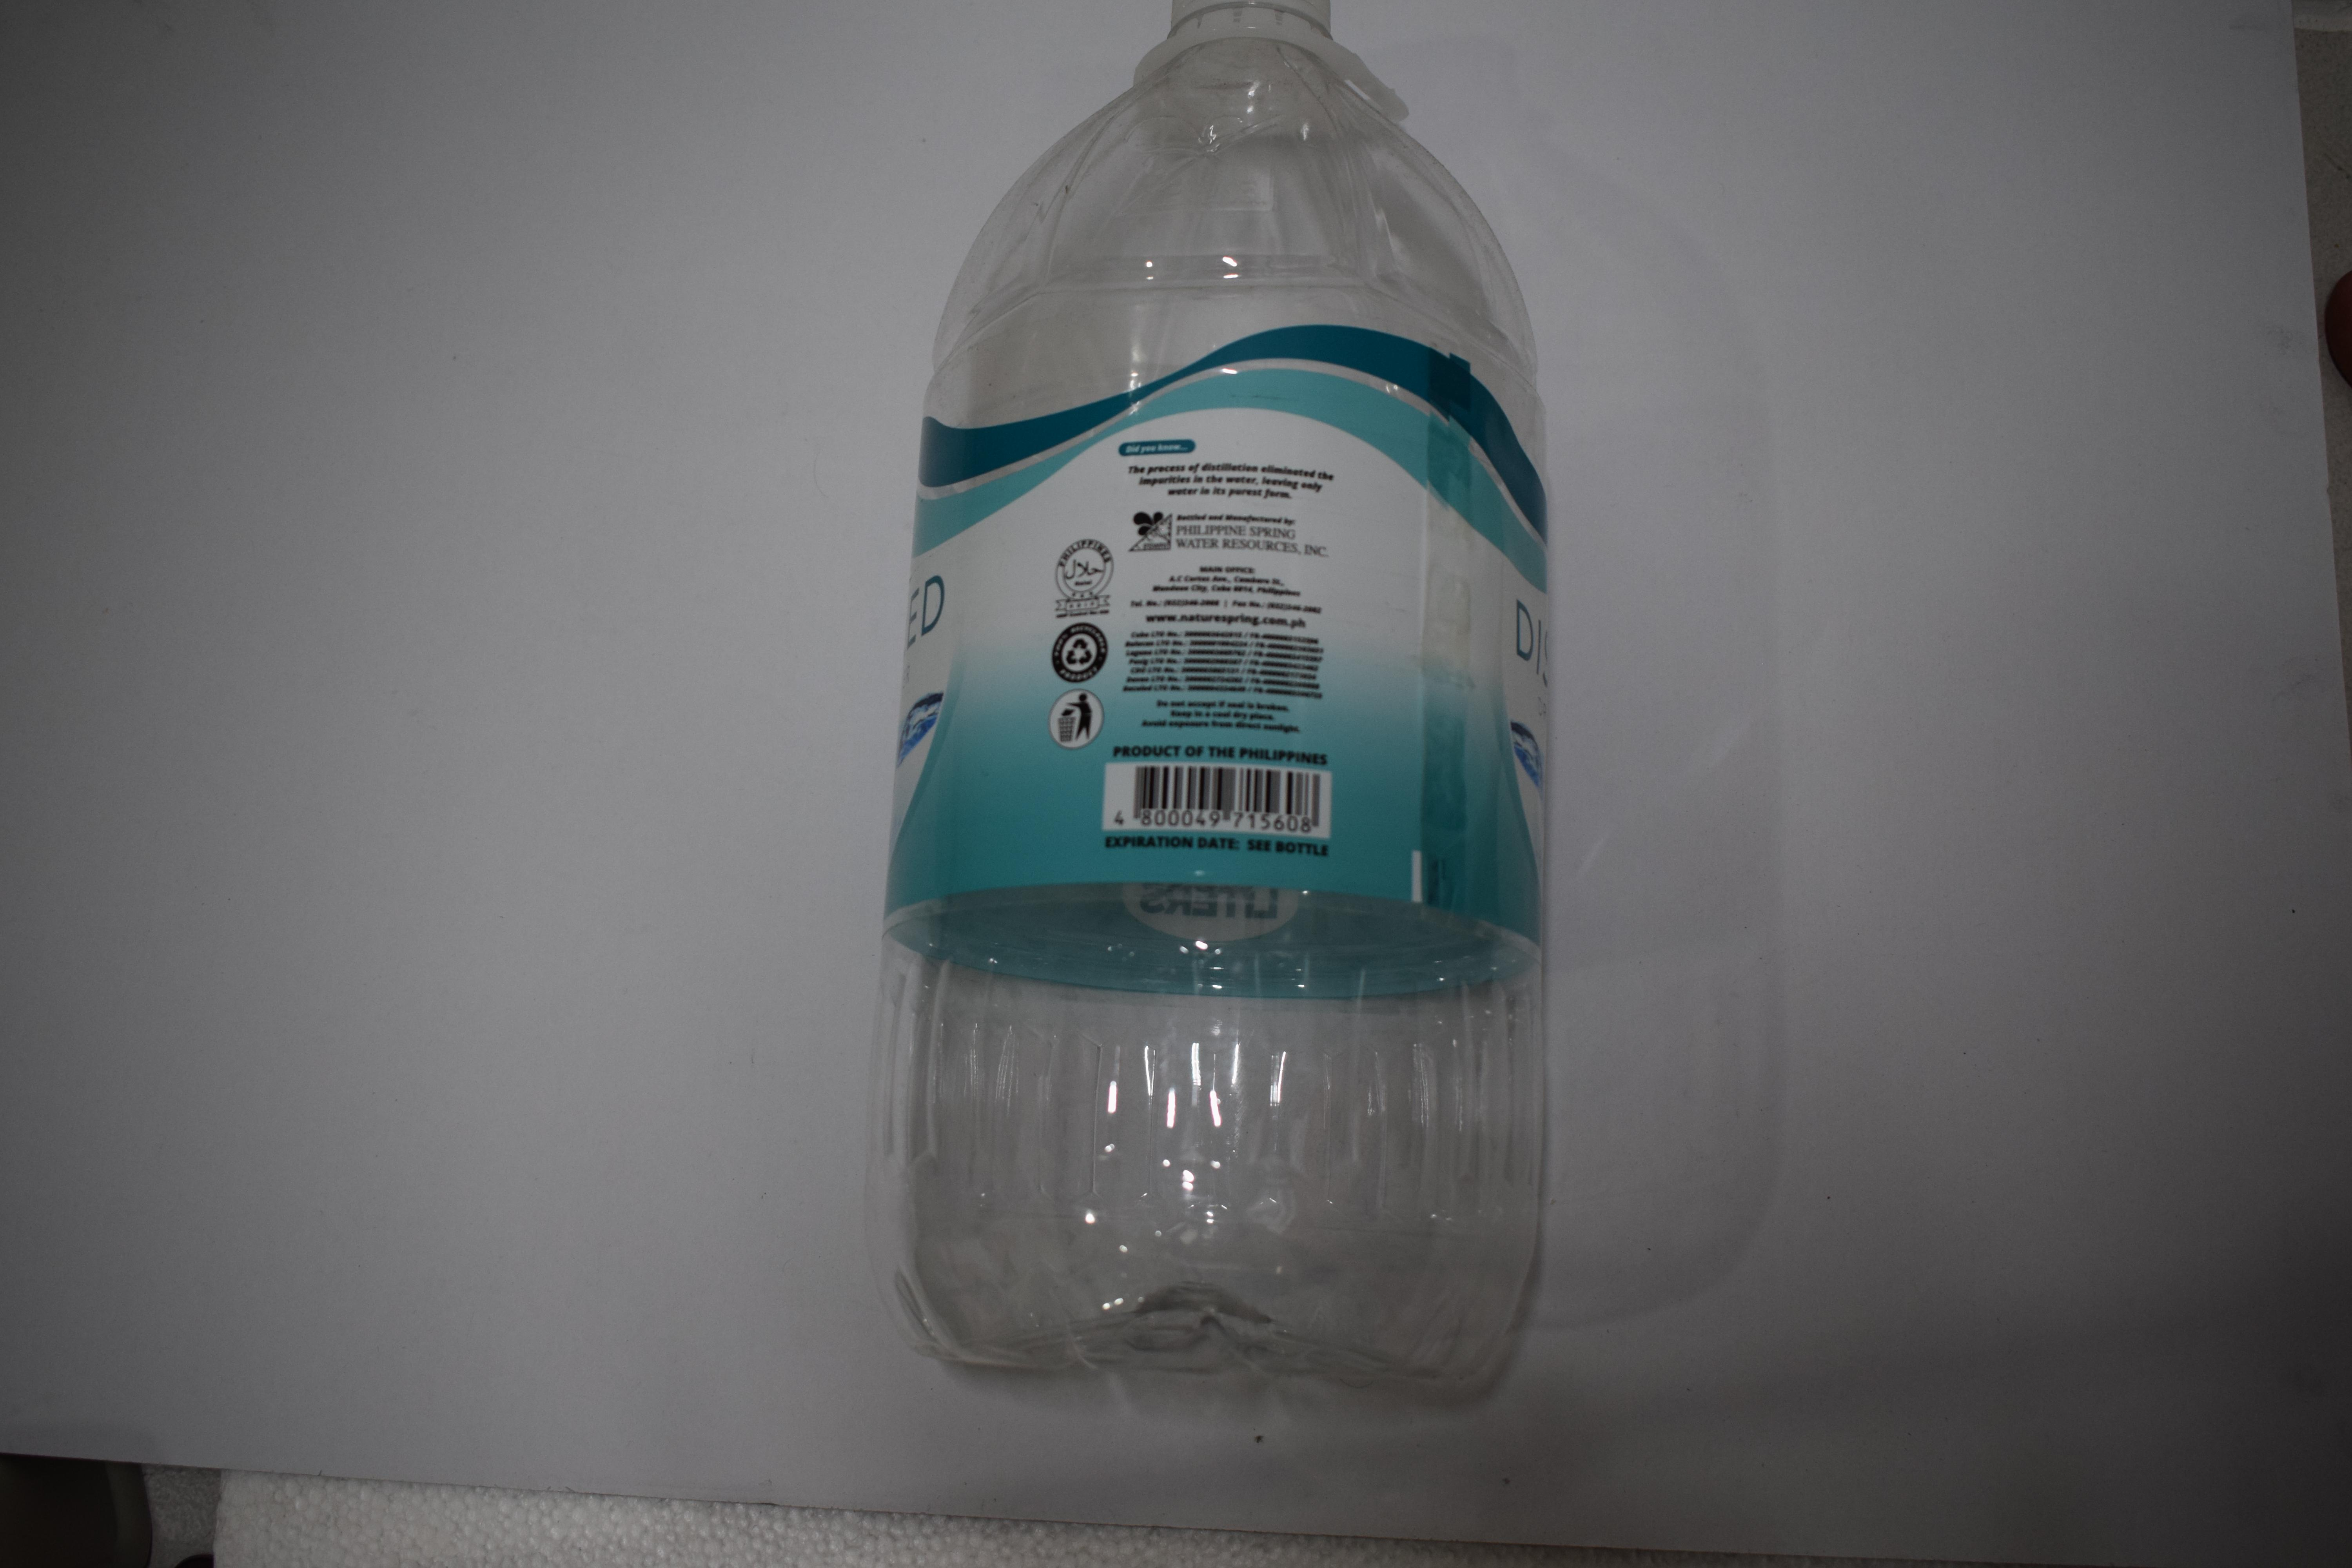bottle: (0, 0, 385, 1335)
